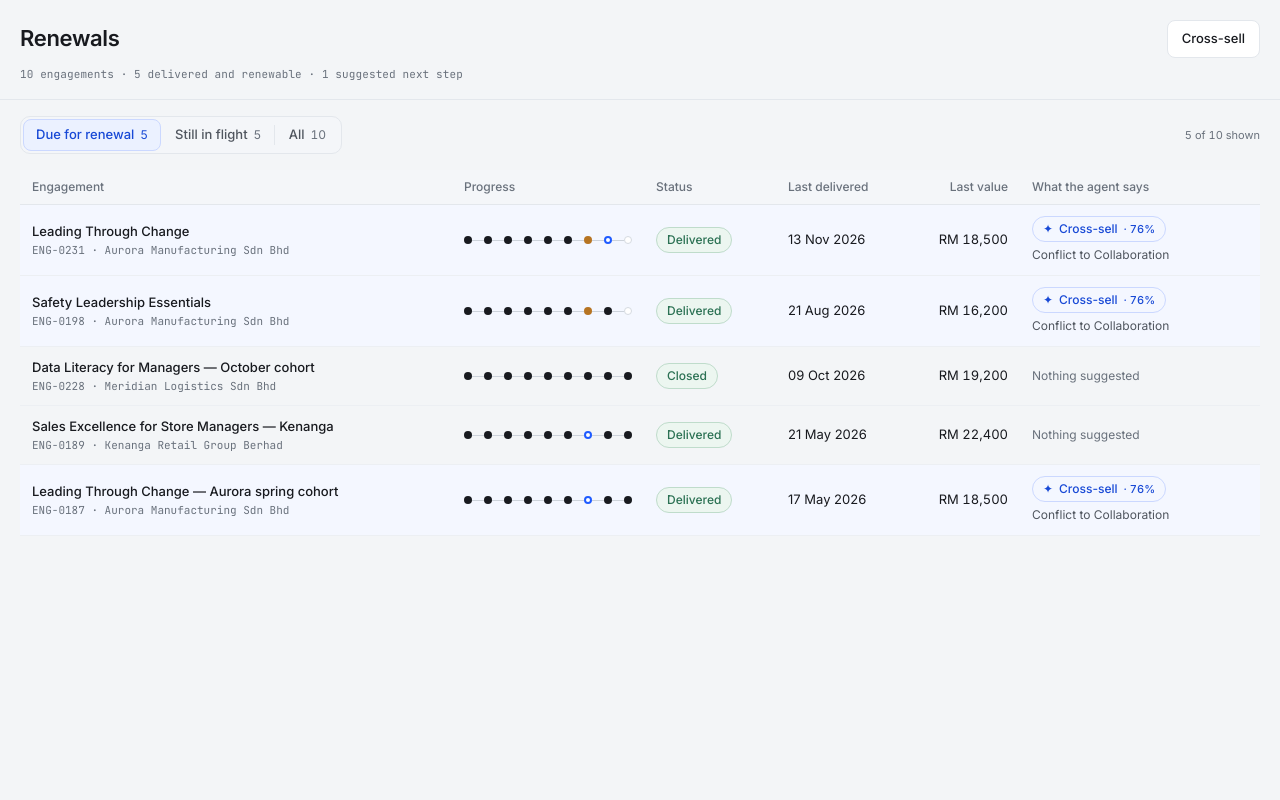
Test case: Relationships › Renewals › draws the server's lifecycle rather than computing one
Click the tab "All 10". click: (307, 135)
box: [275,119,339,151]
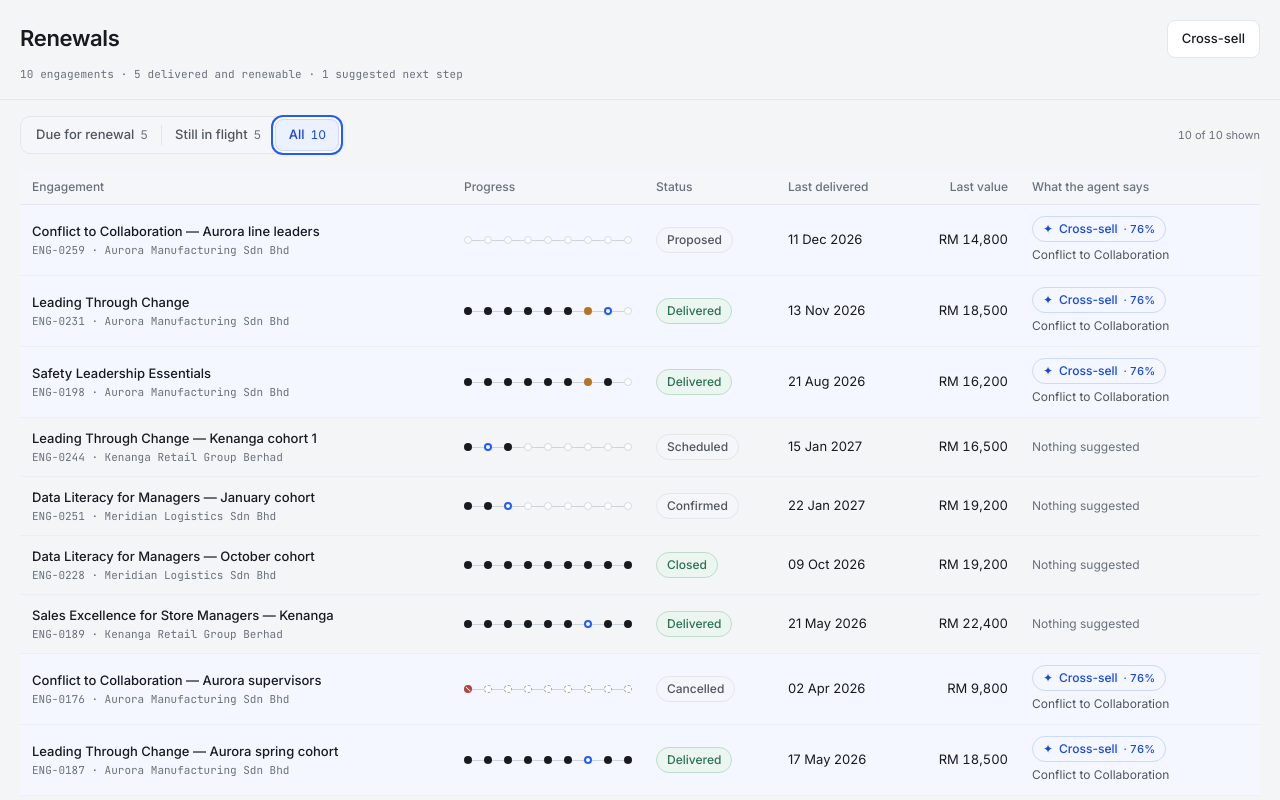
Expected: the picture named "WON: pending · TRAINER_CONFIRMED: pending · SCHEDULED: pendi" is shown, [464,236,632,244]
